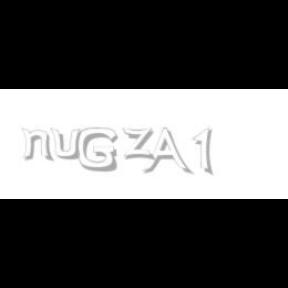1: (192, 128, 214, 176)
A: (142, 128, 190, 176)
G: (77, 128, 117, 172)
n: (21, 128, 55, 162)
u: (50, 128, 86, 160)
z: (122, 128, 158, 160)
